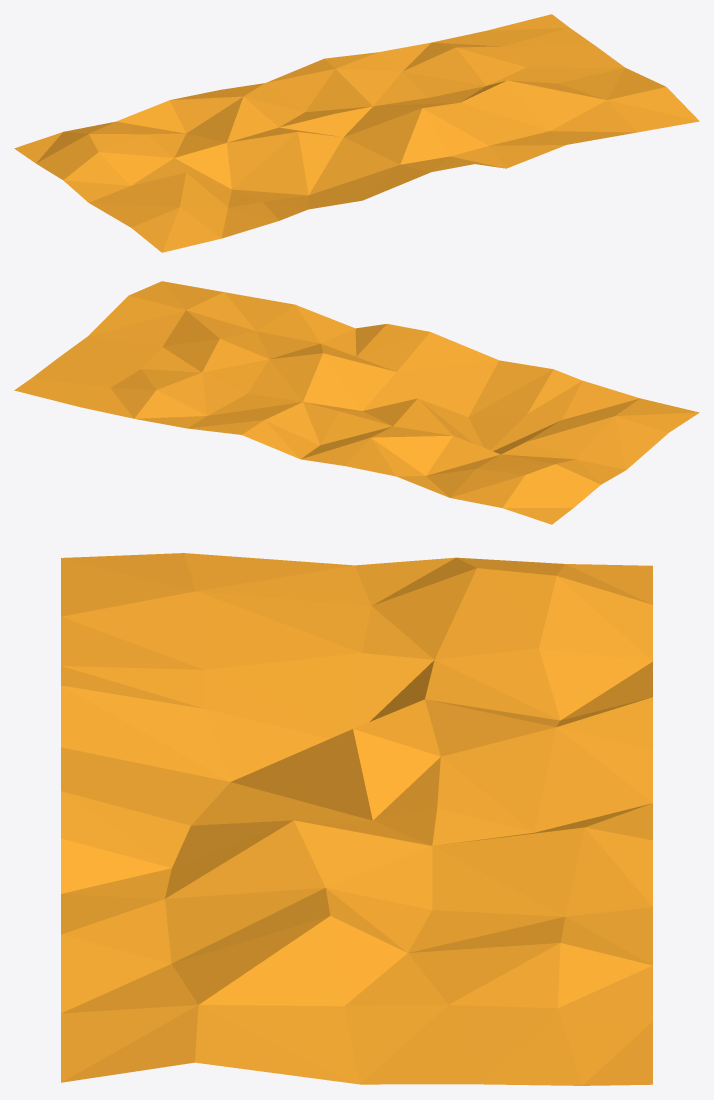
The model's file is SM_Planter_Box_Dirt_A_Farm.fbx.
3 views of the same model, one above another, from view 1: azimuth 30°, elevation 25°; view 2: azimuth 150°, elevation 25°; view 3: azimuth 270°, elevation 25° (orthographic). The views are drawn at different scales.
Parts seen in each view (by area): view 1: planter-box-dirt-a-farm; view 2: planter-box-dirt-a-farm; view 3: planter-box-dirt-a-farm.
Part boxes in pixels (x1,y1,x2,y2): planter-box-dirt-a-farm: [14, 14, 699, 252]; planter-box-dirt-a-farm: [14, 281, 699, 524]; planter-box-dirt-a-farm: [61, 553, 652, 1085].
Bounding box in the file's own units: 1.95 × 0.1654 × 0.9284.
